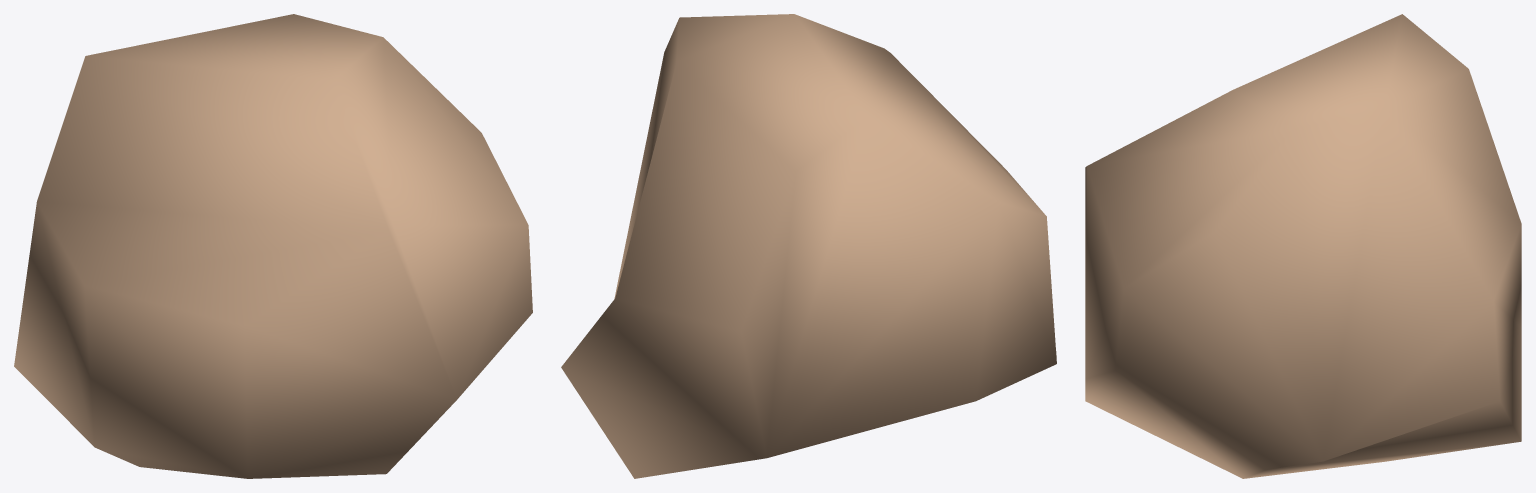
The model's file is Rock6.fbx.
The picture shows the model from 3 angles, left to right: view 1: azimuth 30°, elevation 25°; view 2: azimuth 150°, elevation 25°; view 3: azimuth 270°, elevation 25°; orthographic projection. The views are drawn at different scales.
Visible parts, largest first — view 1: Rock6; view 2: Rock6; view 3: Rock6.
Boxes of the visible parts, x1,y1,x2,y2 form: Rock6: (14, 14, 532, 478); Rock6: (561, 14, 1056, 478); Rock6: (1085, 14, 1521, 478).
Bounding box in the file's own units: 105 × 97.3 × 105.
